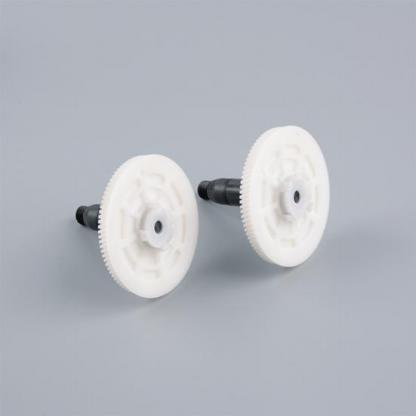FOD: (96, 150, 200, 302), (237, 121, 332, 270)
